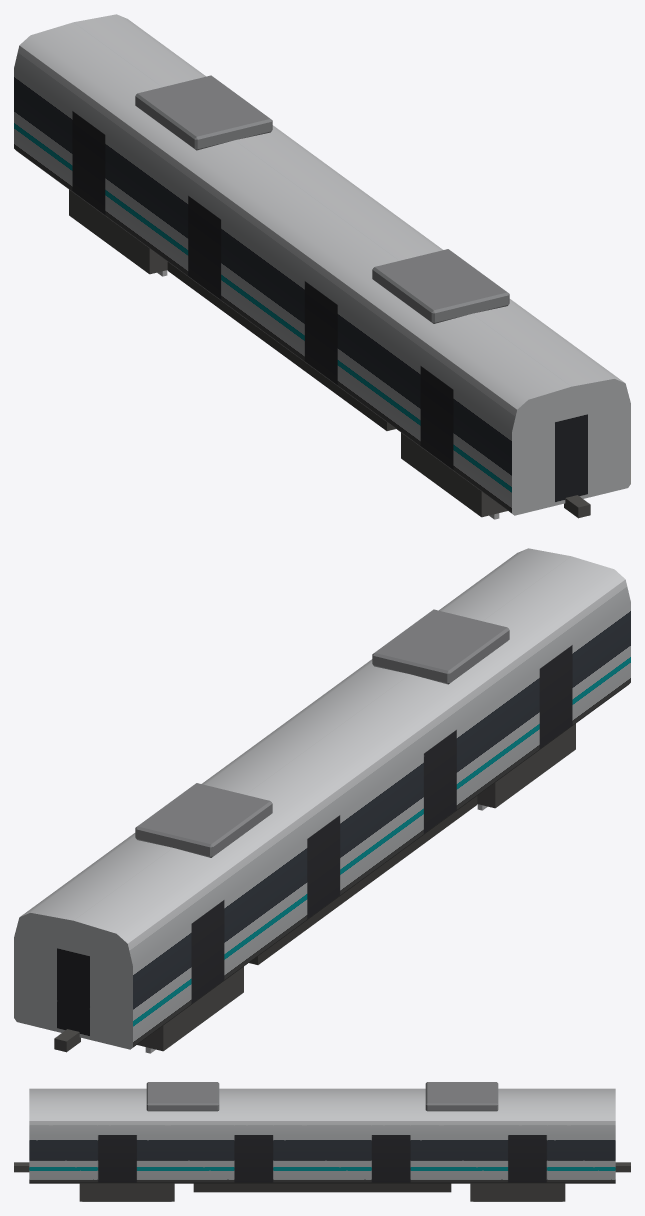
Rendered from metro_car_lod1.glb.
The picture shows the model from 3 angles, top to bottom: view 1: azimuth 30°, elevation 25°; view 2: azimuth 150°, elevation 25°; view 3: azimuth 270°, elevation 25°; orthographic projection. The views are drawn at different scales.
Parts seen in each view (by area): view 1: body; view 2: body; view 3: body.
Part boxes in pixels (x1=…): body: x1=14, y1=14, x2=630, y2=519; body: x1=14, y1=548, x2=630, y2=1053; body: x1=14, y1=1082, x2=630, y2=1201.
Size of the model in its own units: 2.9 by 3.95 by 22.1.
2 materials, 2 textured.
